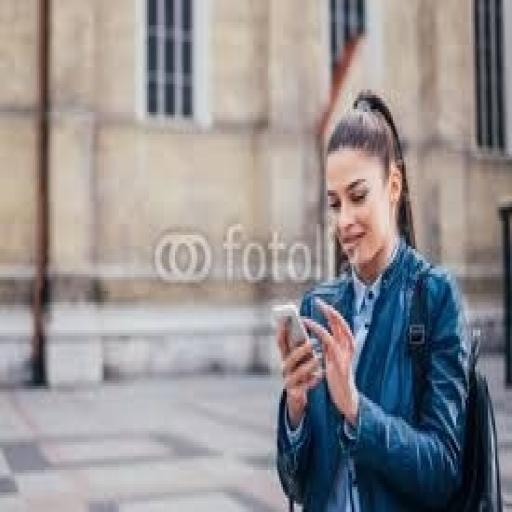texting: (272, 90, 473, 509)
